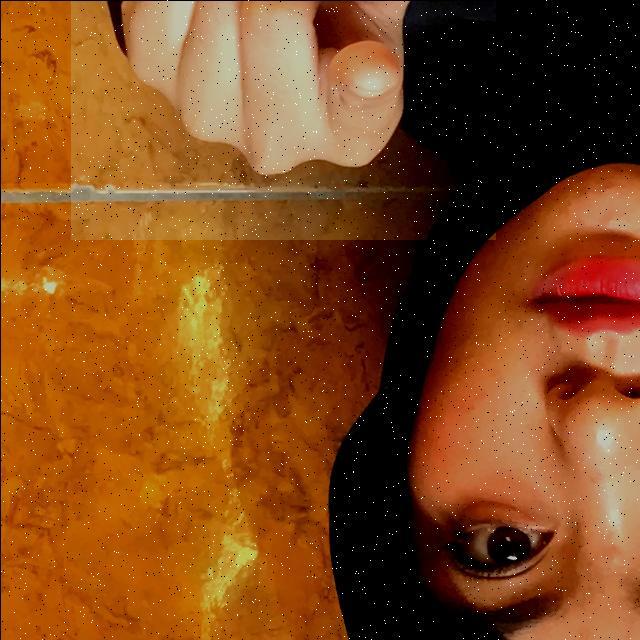kamu: (70, 0, 495, 239)
